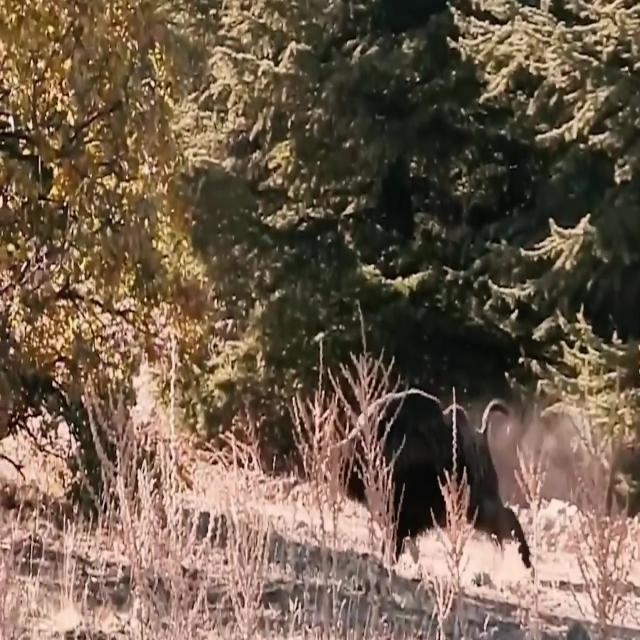pig: (328, 356, 544, 600)
